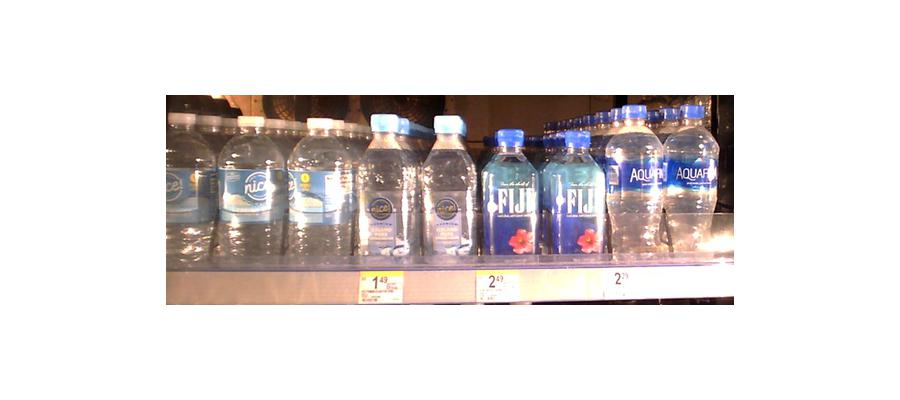bottle: (286, 111, 355, 264), (217, 113, 285, 263), (356, 111, 420, 264), (606, 101, 663, 261), (662, 96, 718, 256), (545, 128, 607, 261), (422, 113, 476, 263), (481, 129, 541, 264), (162, 100, 209, 261)
